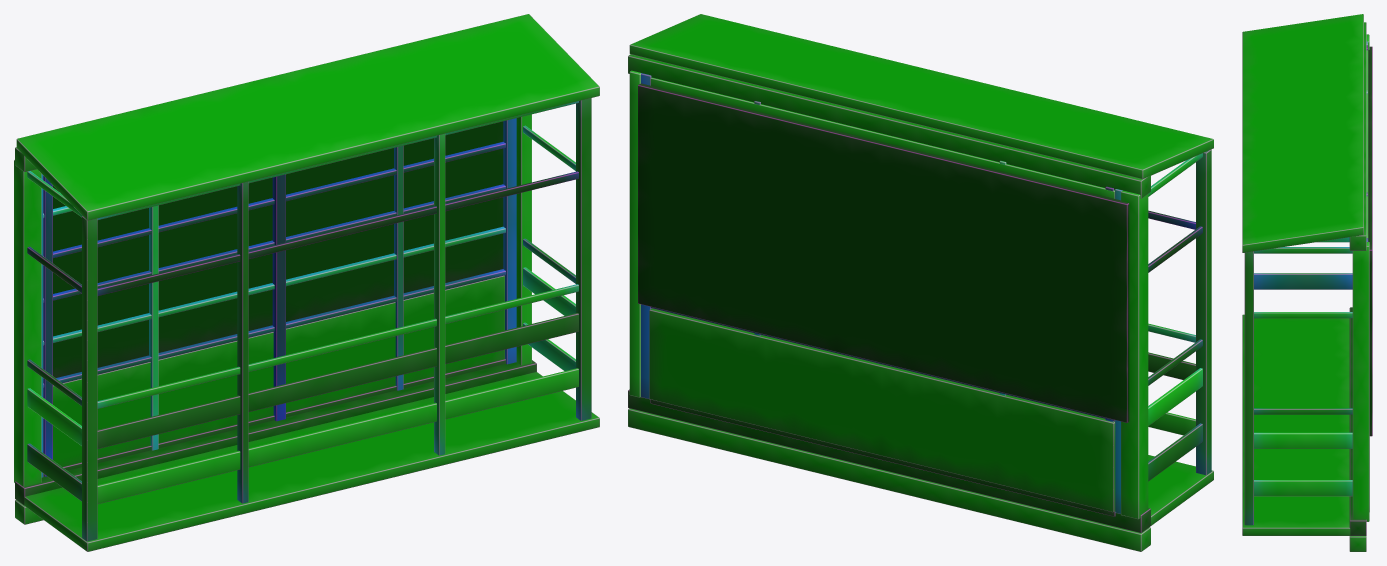
Rendered from window_400x350_06.fbx.
3 views of the same model, side by side, from view 1: azimuth 30°, elevation 25°; view 2: azimuth 150°, elevation 25°; view 3: azimuth 270°, elevation 25° (orthographic). The views are drawn at different scales.
Visible parts, largest first — view 1: window_400x350_06; view 2: window_400x350_06; view 3: window_400x350_06.
Boxes of the visible parts, bbox=[...] form: window_400x350_06: bbox=[14, 14, 599, 551]; window_400x350_06: bbox=[628, 14, 1213, 551]; window_400x350_06: bbox=[1242, 14, 1372, 551].
Size of the model in its own units: 3.1 by 2.2 by 0.8003.
